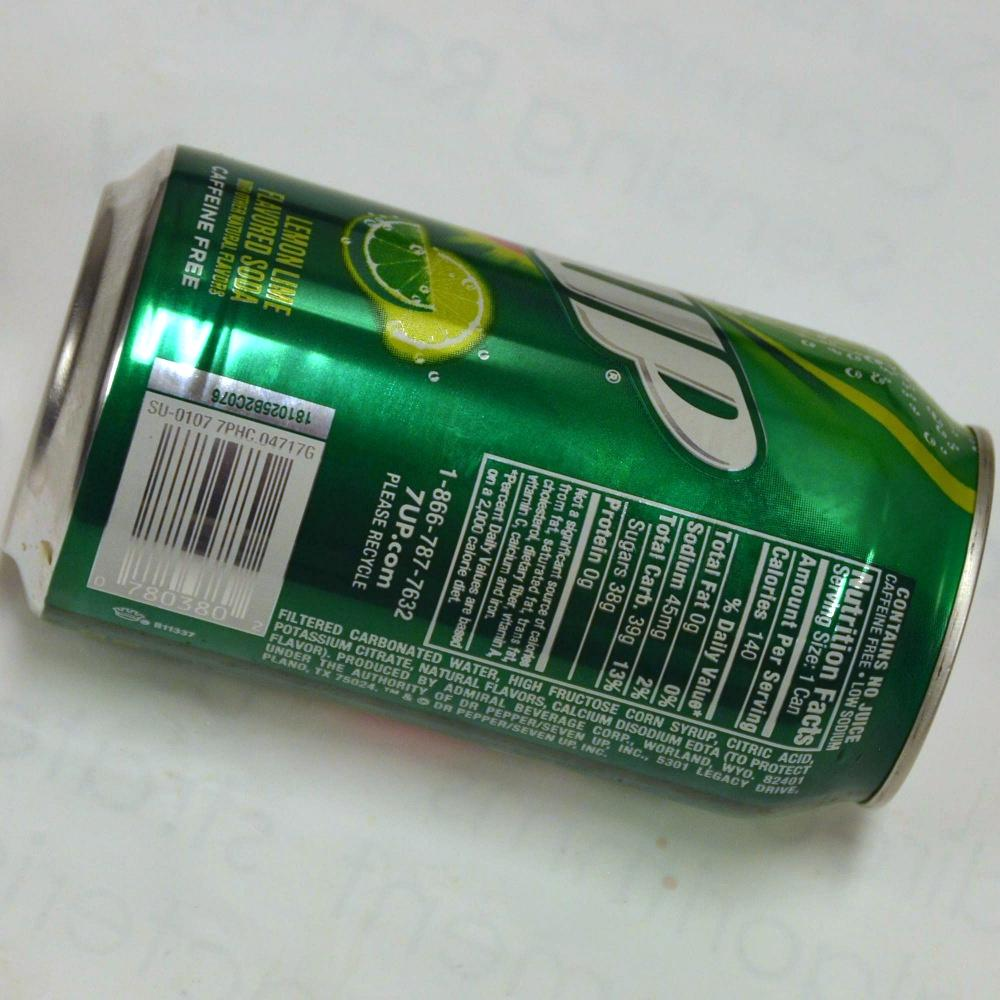Metal: (33, 108, 968, 878)
